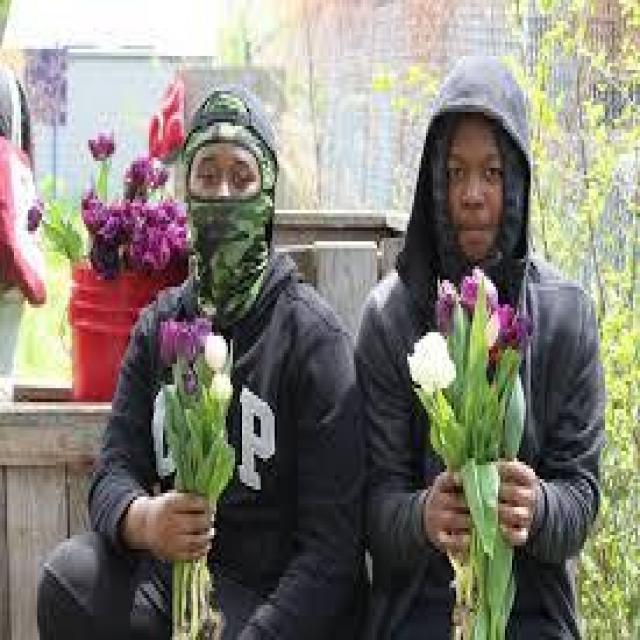organic waste: (402, 320, 458, 397), (158, 313, 205, 365), (459, 271, 502, 317), (499, 299, 530, 358), (206, 330, 234, 369), (210, 372, 238, 408), (439, 274, 457, 316)
